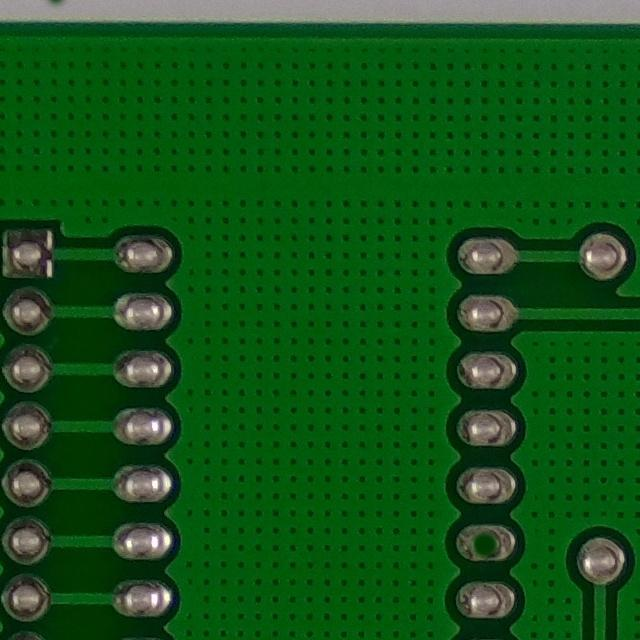missing_hole: (457, 514, 515, 572)
